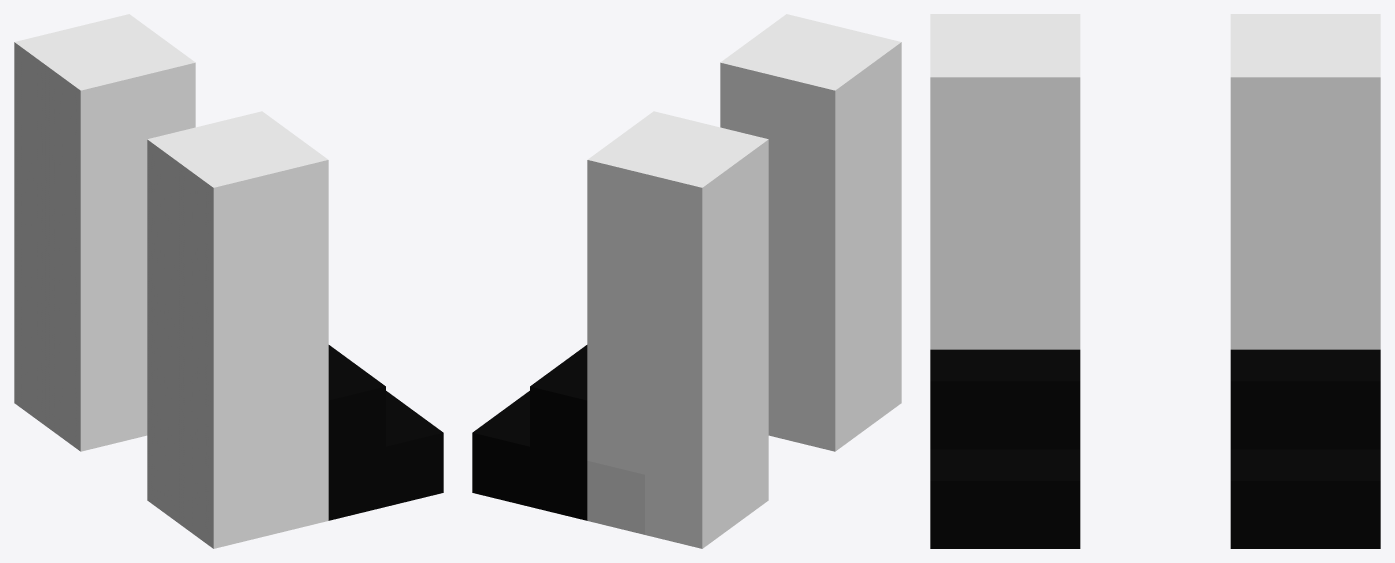
File: feet_base1.gltf
3 views of the same model, side by side, from view 1: azimuth 30°, elevation 25°; view 2: azimuth 150°, elevation 25°; view 3: azimuth 270°, elevation 25° (orthographic). The views are drawn at different scales.
Parts seen in each view (by area): view 1: Layer.1; view 2: Layer.1; view 3: Layer.1.
Boxes of the visible parts, x1=… form: Layer.1: x1=14, y1=14, x2=443, y2=548; Layer.1: x1=472, y1=14, x2=901, y2=548; Layer.1: x1=930, y1=14, x2=1380, y2=548.
Size of the model in its own units: 4 by 6 by 6.
1 material, 1 textured.
